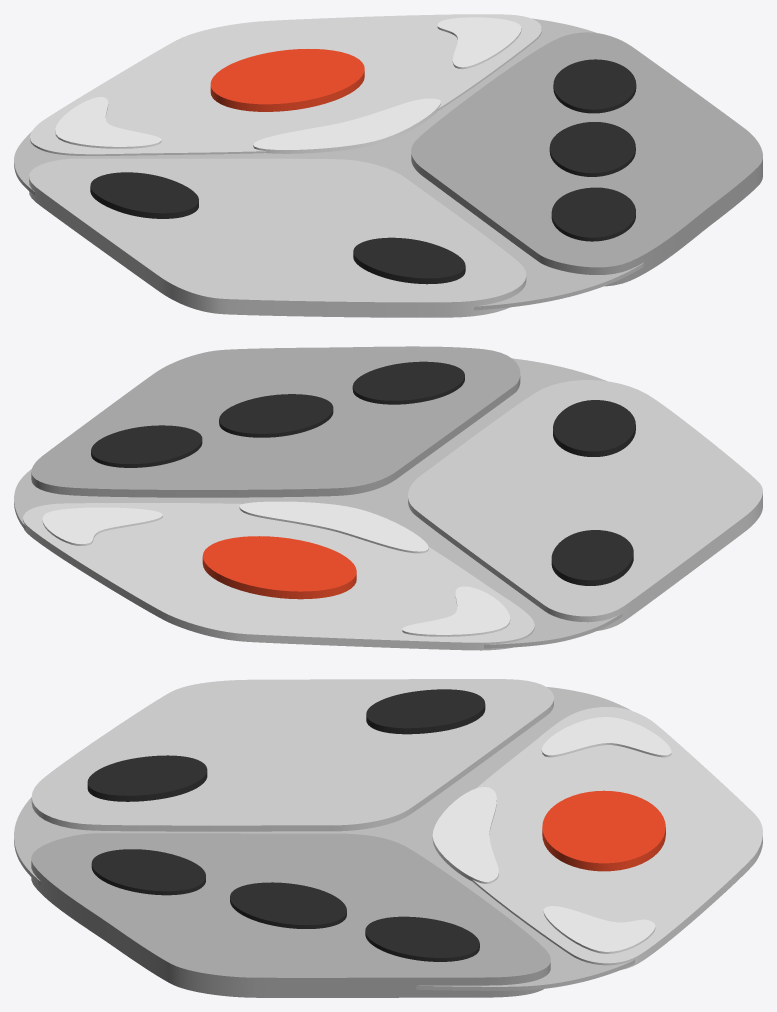
File: emoji_u1f3b2.glb
3 views of the same model, one above another, from view 1: azimuth 30°, elevation 25°; view 2: azimuth 150°, elevation 25°; view 3: azimuth 270°, elevation 25° (orthographic). The views are drawn at different scales.
Visible parts, largest first — view 1: emoji_u1f3b2; view 2: emoji_u1f3b2; view 3: emoji_u1f3b2.
Boxes of the visible parts, x1,y1,x2,y2 form: emoji_u1f3b2: (14,14,762,317); emoji_u1f3b2: (14,346,762,650); emoji_u1f3b2: (14,679,762,997).
Bounding box in the file's own units: 0.0322 × 0.0014 × 0.0338.
